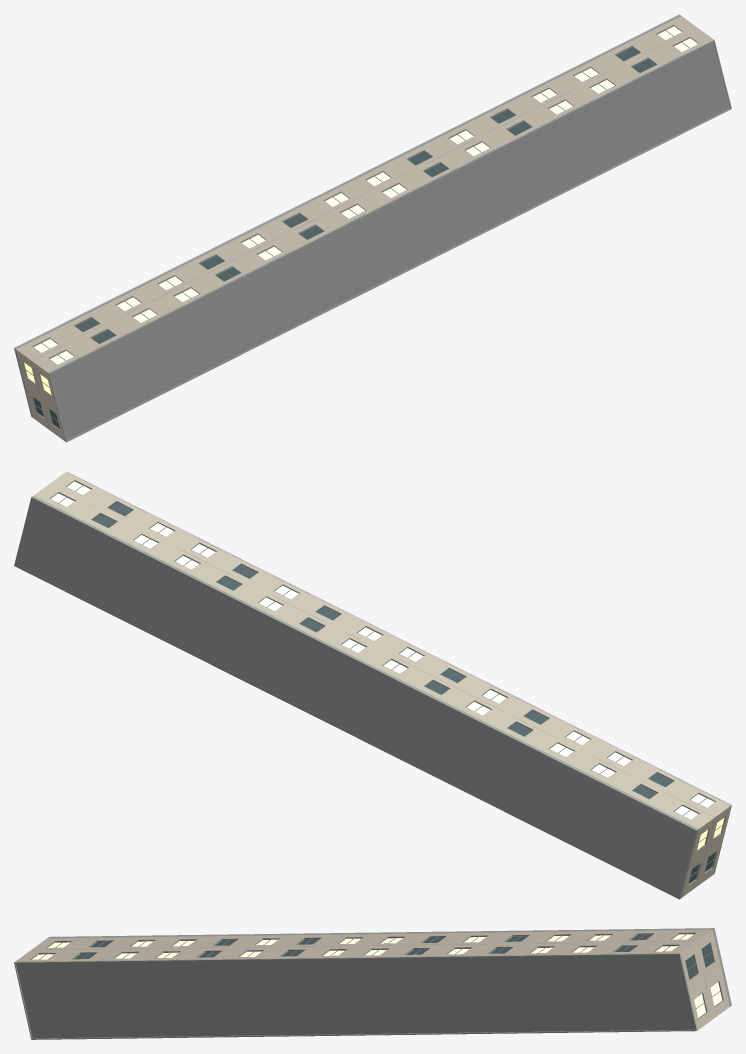
File: commercial-near.glb
The picture shows the model from 3 angles, top to bottom: view 1: azimuth 30°, elevation 25°; view 2: azimuth 150°, elevation 25°; view 3: azimuth 330°, elevation 25°; orthographic projection.
Visible parts, largest first — view 1: way/502015082; view 2: way/502015082; view 3: way/502015082.
Boxes of the visible parts, x1=… form: way/502015082: x1=14, y1=14, x2=731, y2=442; way/502015082: x1=14, y1=471, x2=731, y2=899; way/502015082: x1=14, y1=928, x2=731, y2=1039.
Bounding box in the file's own units: 112 × 38.2 × 9.96.
